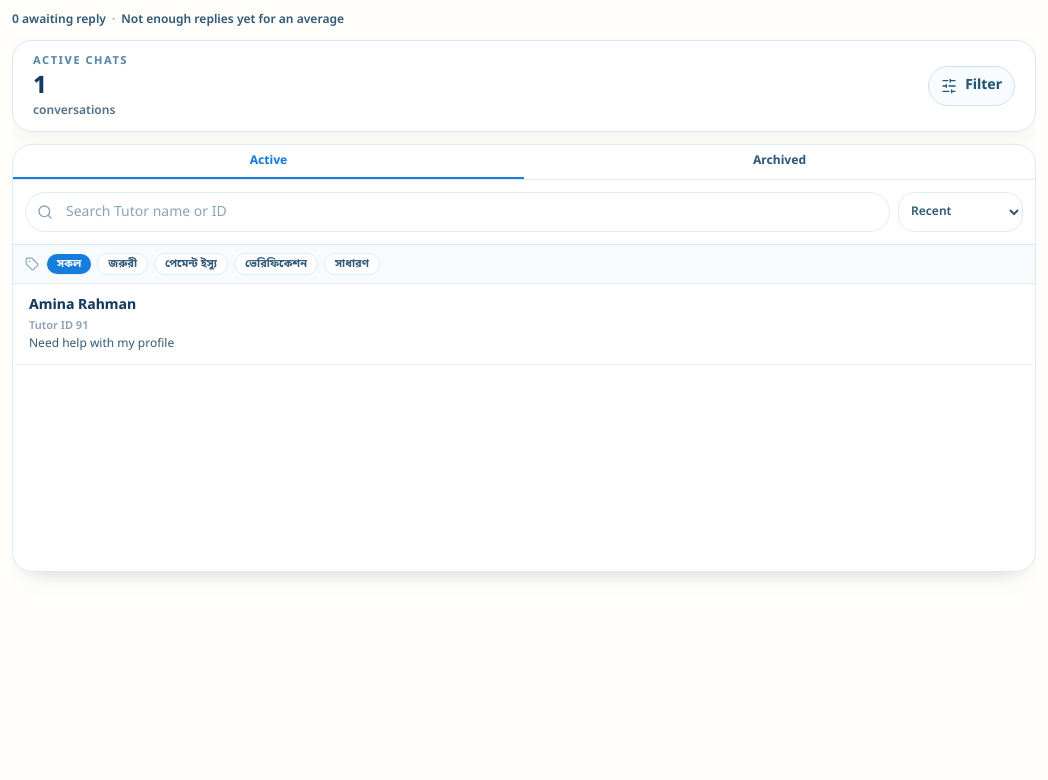
the Admin's Tutor chat list › on mobile, shows the list first and a Back control once a thread opens
Click the text "Amina Rahman" at (83, 306), box [29, 296, 136, 316]
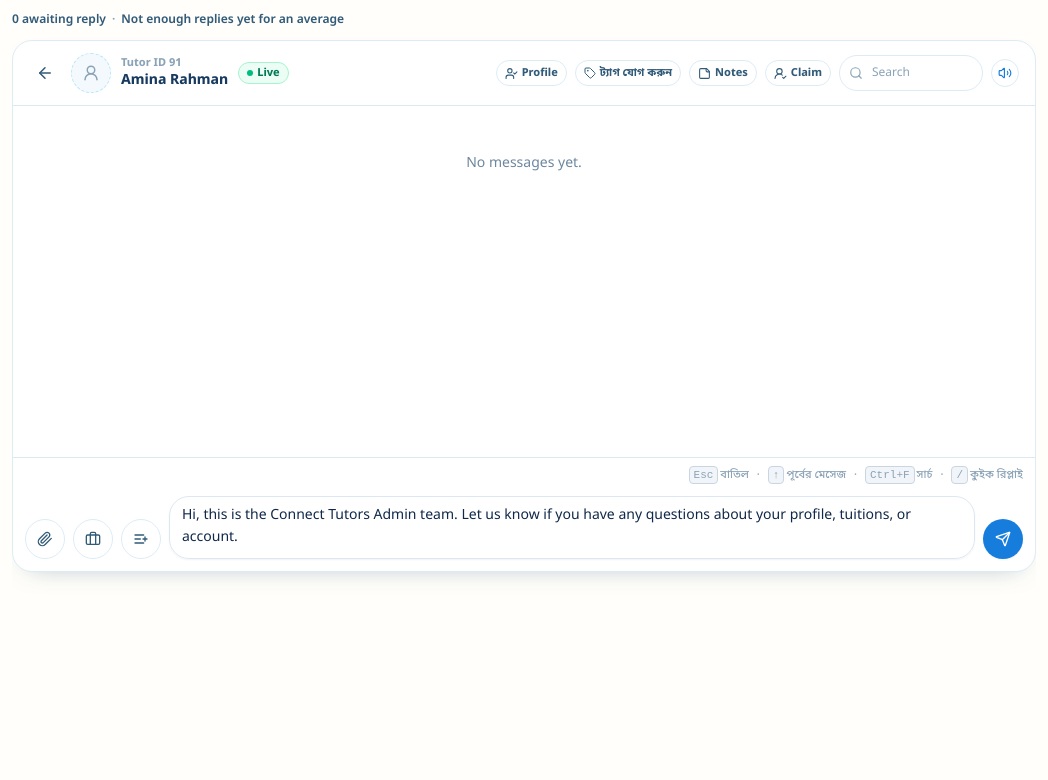
Check: the button named "Back to Tutor list" is shown
Click the button named "Back to Tutor list" at (45, 73), box [29, 57, 61, 89]
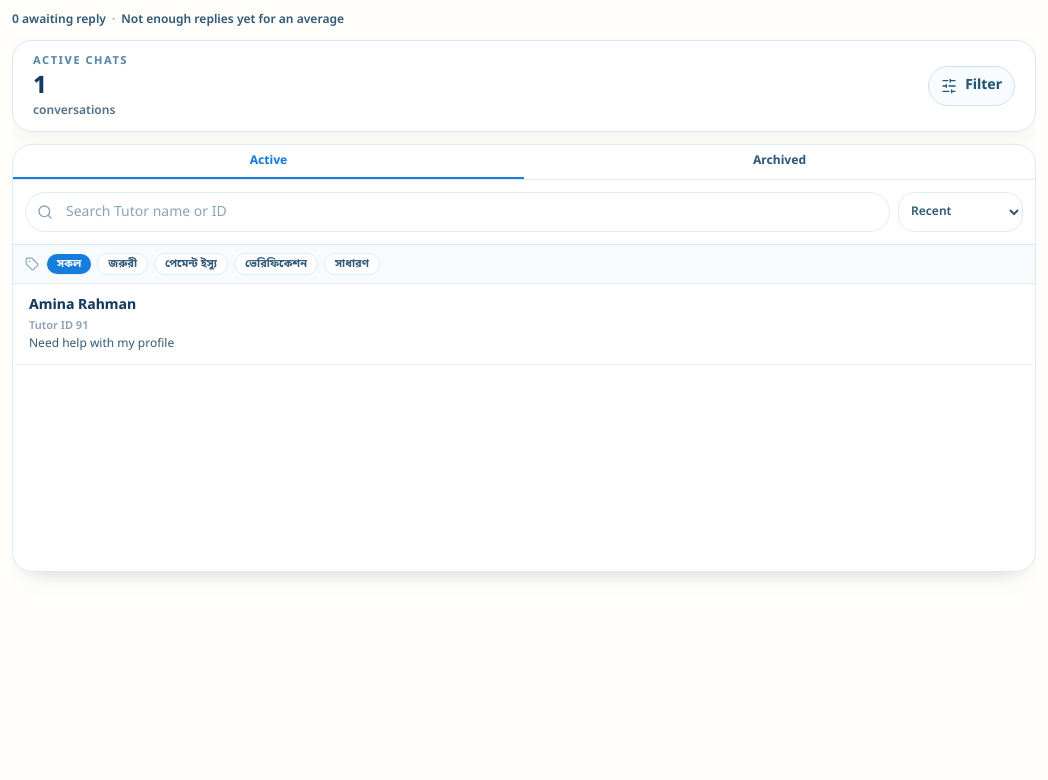
Check: the search field with placeholder "Search Tutor name or ID" is shown, box [25, 192, 890, 232]
